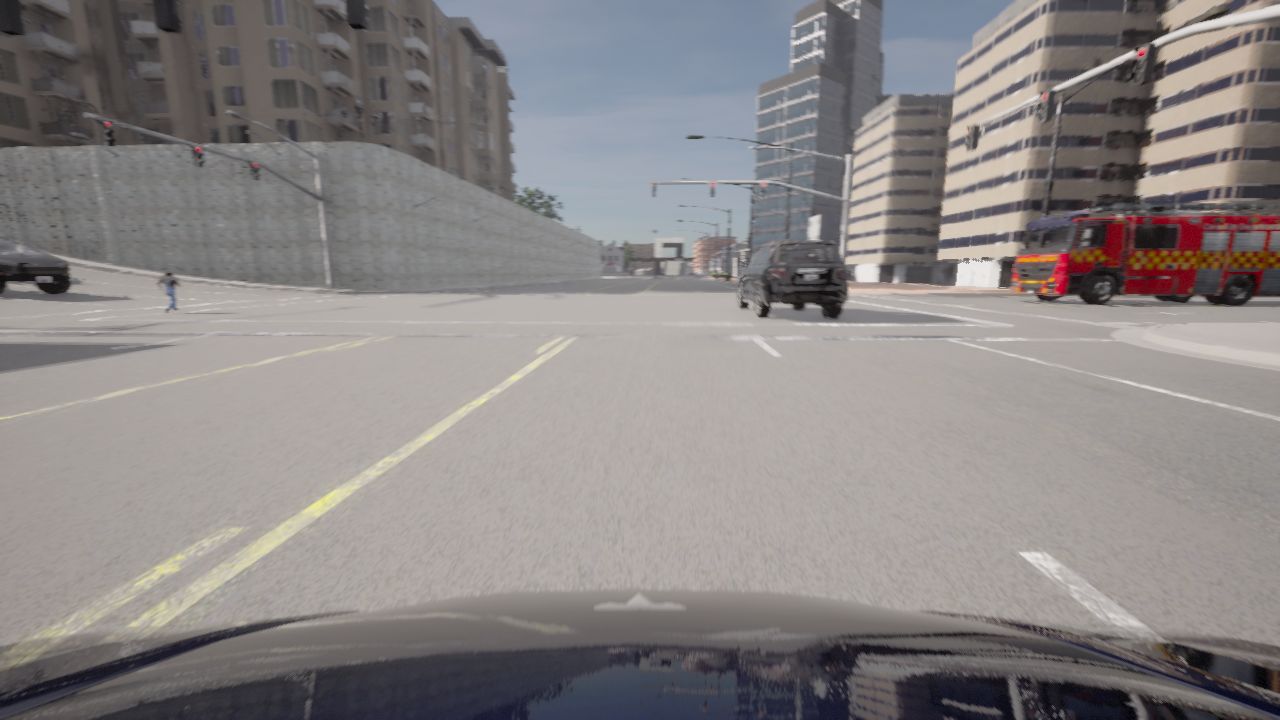cyclist: (0, 588, 1279, 719), (1010, 203, 1279, 305), (737, 240, 847, 318), (687, 272, 688, 274)
pedestrian: (156, 271, 179, 313)
